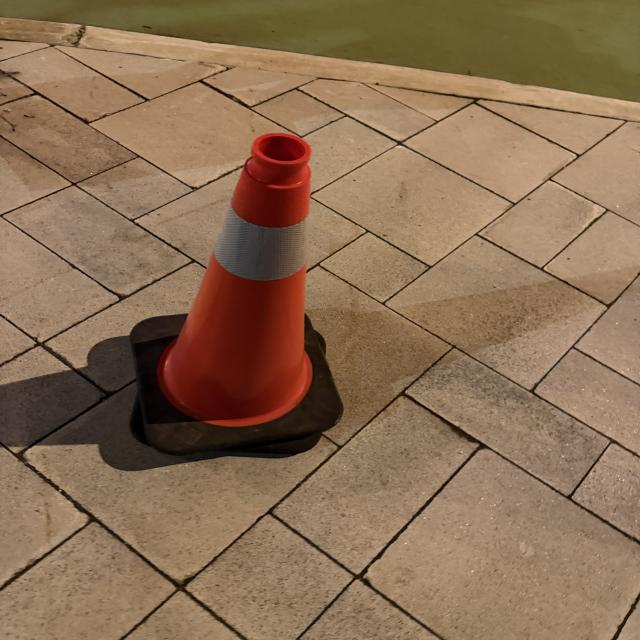Traffic Cone: (128, 132, 344, 456)
